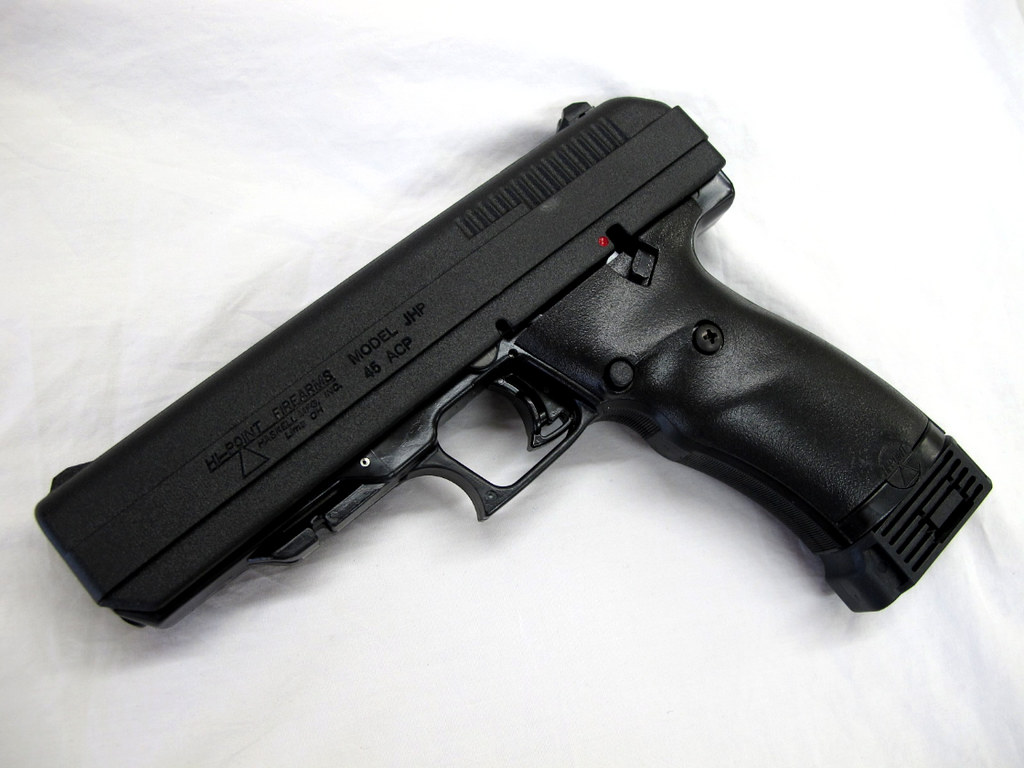gun: (29, 86, 1001, 660)
